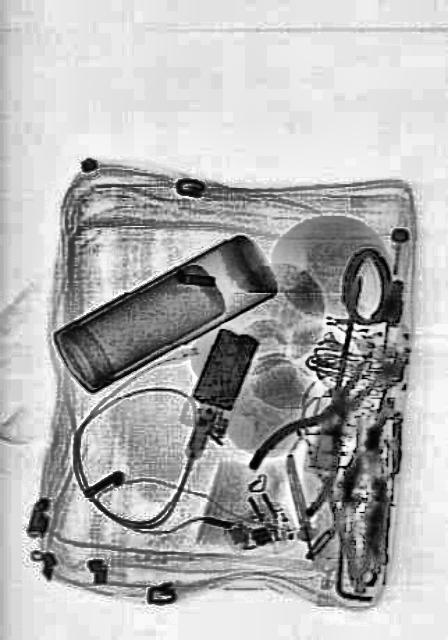Pliers: (245, 323, 405, 532)
